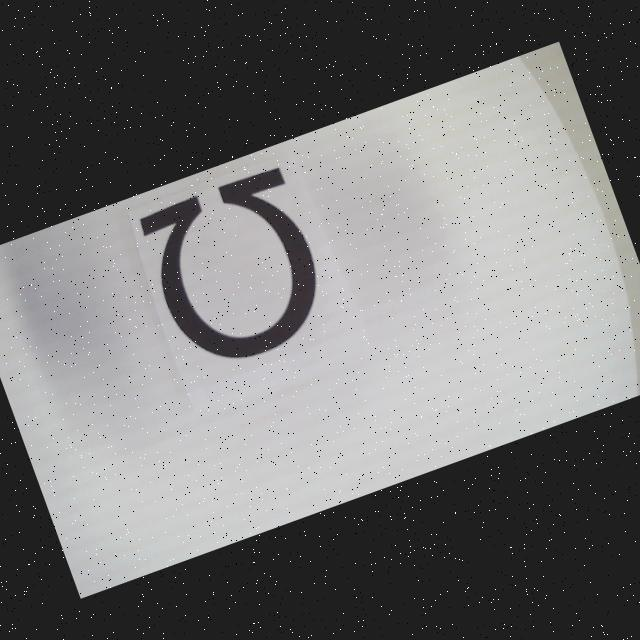OMEGA: (135, 165, 338, 378)
